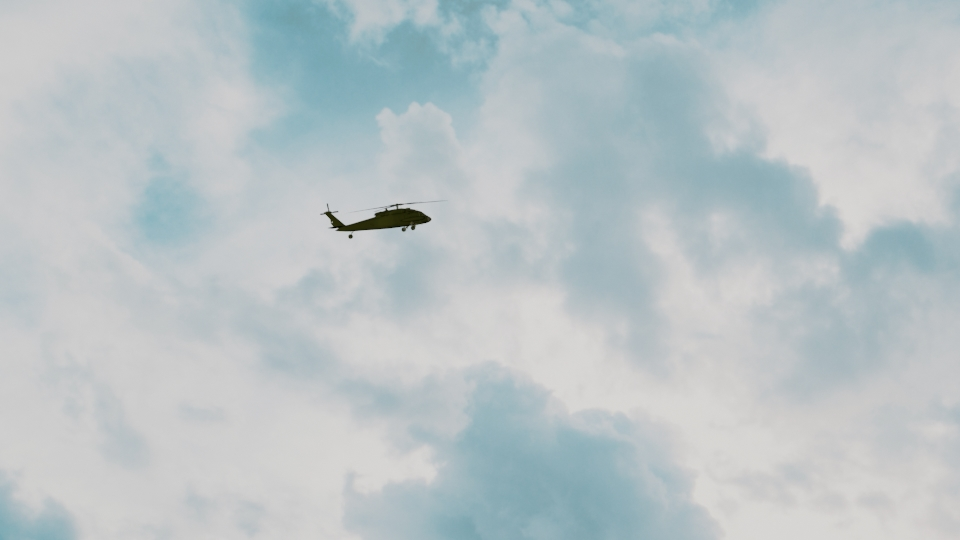heli: (319, 200, 434, 239)
